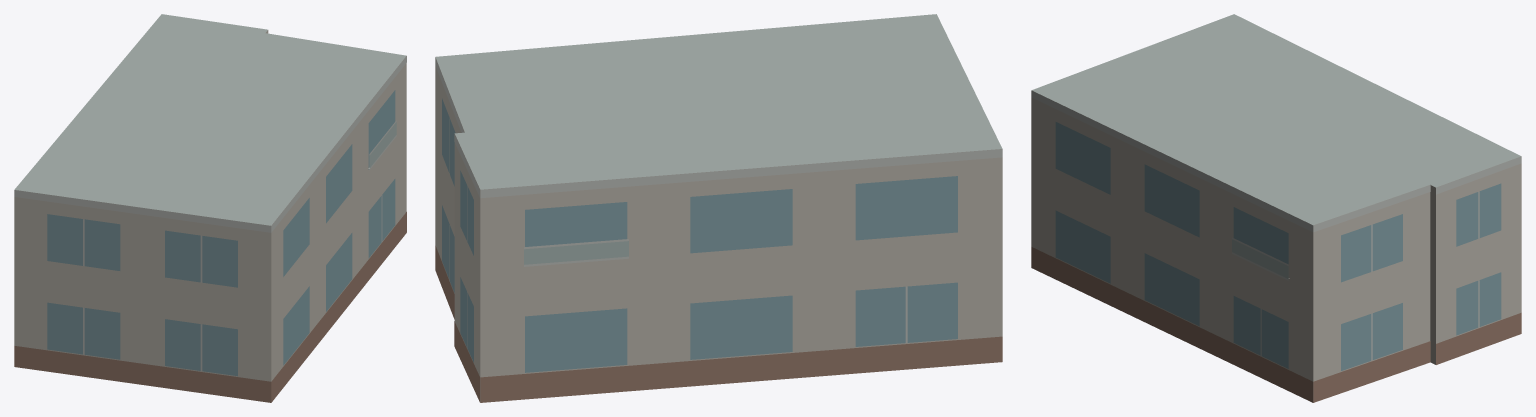
The model's file is survey-upis-32655358.glb.
3 views of the same model, side by side, from view 1: azimuth 30°, elevation 25°; view 2: azimuth 150°, elevation 25°; view 3: azimuth 270°, elevation 25° (orthographic). The views are drawn at different scales.
Parts seen in each view (by area): view 1: survey-upis-32655358.tmp; view 2: survey-upis-32655358.tmp; view 3: survey-upis-32655358.tmp.
Boxes of the visible parts, bbox=[...] form: survey-upis-32655358.tmp: bbox=[14, 14, 406, 402]; survey-upis-32655358.tmp: bbox=[435, 14, 1002, 402]; survey-upis-32655358.tmp: bbox=[1031, 14, 1521, 402].
Size of the model in its own units: 15.58 by 6.1 by 15.27.
